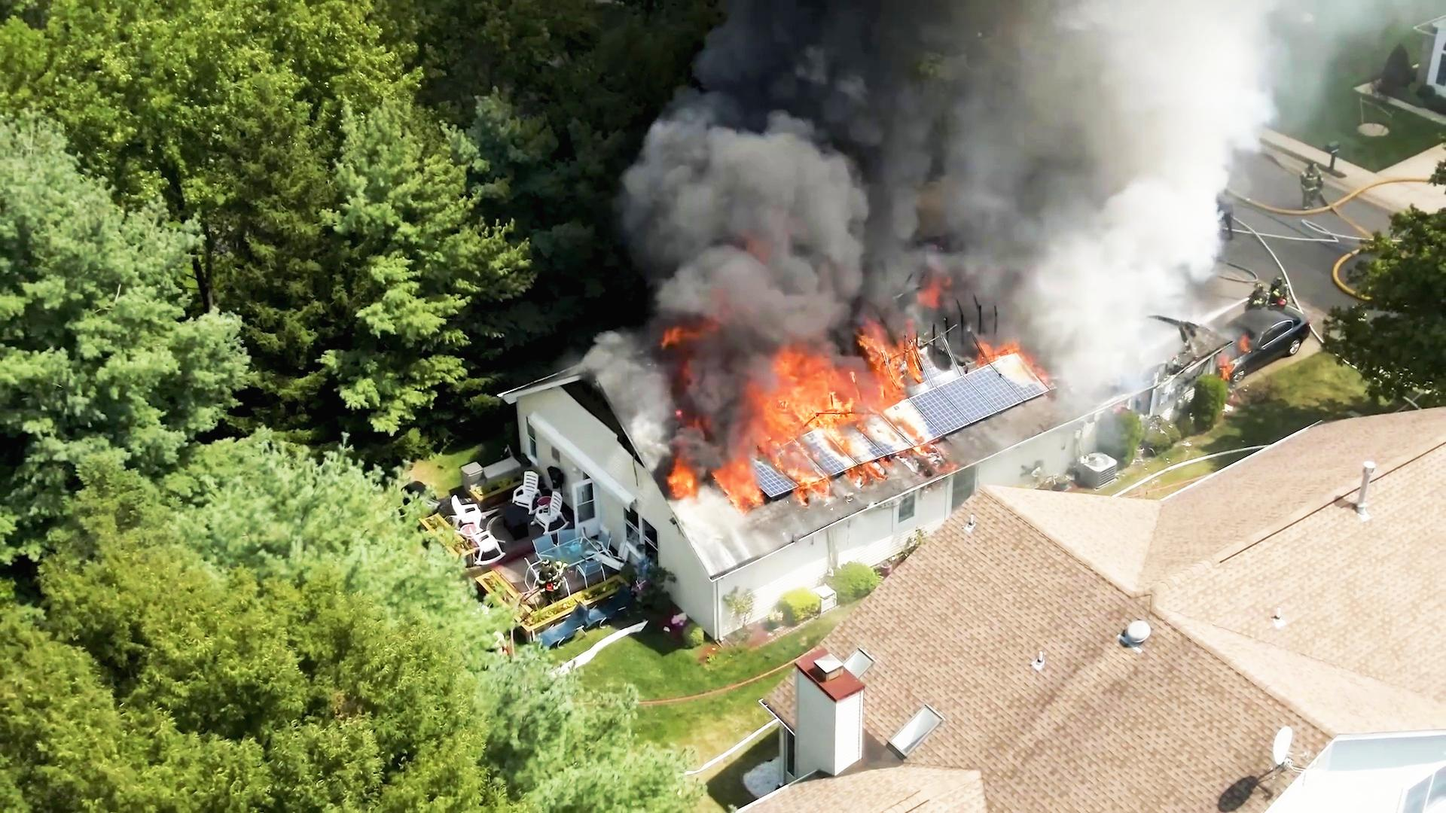fire: (760, 358, 861, 458)
smoke: (627, 100, 839, 335), (1038, 0, 1168, 352)
